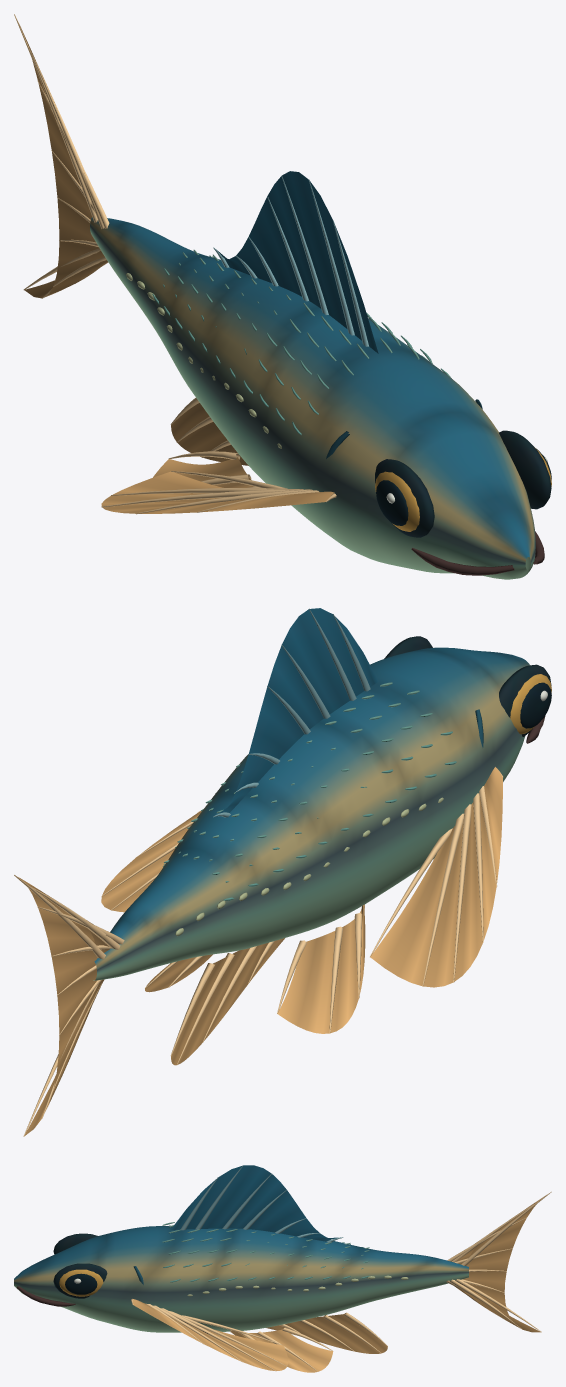
The model's file is cleaner.glb.
The picture shows the model from 3 angles, top to bottom: view 1: azimuth 30°, elevation 25°; view 2: azimuth 150°, elevation 25°; view 3: azimuth 270°, elevation 25°; orthographic projection. The views are drawn at different scales.
Visible parts, largest first — view 1: body, dorsal, tail, fin_-1, fins; view 2: body, fin_-1, fins, dorsal, tail, fin_1; view 3: body, dorsal, fins, tail, fin_1.
Boxes of the visible parts, box(x1,y1,x2,y2) form: body: box(90, 217, 551, 579); dorsal: box(213, 171, 378, 353); tail: box(14, 14, 109, 298); fin_-1: box(101, 471, 336, 514); fins: box(153, 398, 258, 487); body: box(93, 636, 551, 980); fin_-1: box(370, 767, 503, 987); fins: box(145, 904, 365, 1065); dorsal: box(213, 608, 378, 817); tail: box(14, 875, 124, 1136); fin_1: box(101, 810, 201, 912); body: box(14, 1222, 468, 1332); dorsal: box(171, 1165, 343, 1242); fins: box(230, 1312, 387, 1372); tail: box(446, 1191, 551, 1332); fin_1: box(131, 1299, 288, 1371).
Size of the model in its own units: 1.39 by 1.34 by 3.45.
